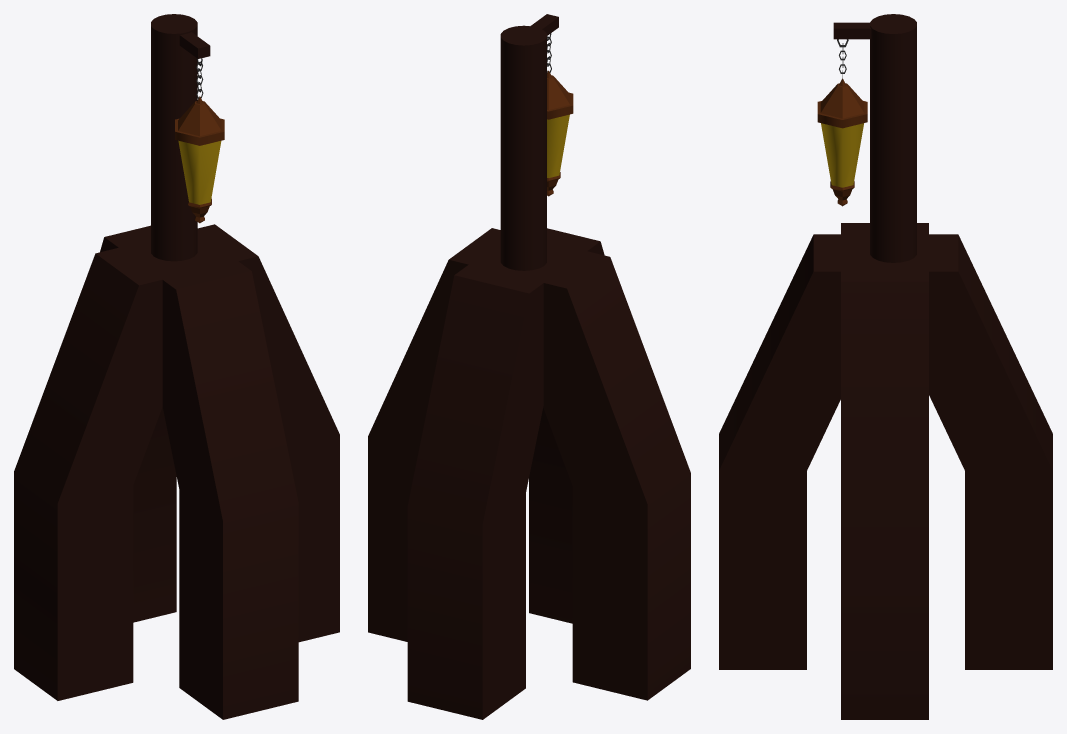
File: Bouy.fbx
The picture shows the model from 3 angles, left to right: view 1: azimuth 30°, elevation 25°; view 2: azimuth 150°, elevation 25°; view 3: azimuth 270°, elevation 25°; orthographic projection.
Parts seen in each view (by area): view 1: Box003, Box002, Box001, Cylinder015, Box004, Object001, Box005; view 2: Box004, Box002, Box001, Cylinder015, Box003, Object001; view 3: Box001, Box004, Box003, Cylinder015, Object001, Box002, Box005.
Part boxes in pixels (x1,y1,x2,y2): Box003: (162,239,298,719); Box002: (14,247,194,700); Box001: (139,224,339,642); Cylinder015: (151,14,197,261); Box004: (100,225,220,622); Object001: (175,58,224,223); Box005: (179,32,210,58); Box004: (407,255,543,719); Box002: (492,251,690,700); Box001: (368,228,566,641); Cylinder015: (500,25,546,270); Box003: (484,228,604,623); Object001: (547,33,573,196); Box001: (841,260,928,719); Box004: (870,234,1052,669); Box003: (719,234,869,669); Cylinder015: (870,14,916,262); Object001: (817,39,867,206); Box002: (841,223,928,259); Box005: (833,22,871,39).
Bounding box in the file's own units: 74.55 × 157 × 75.92.
